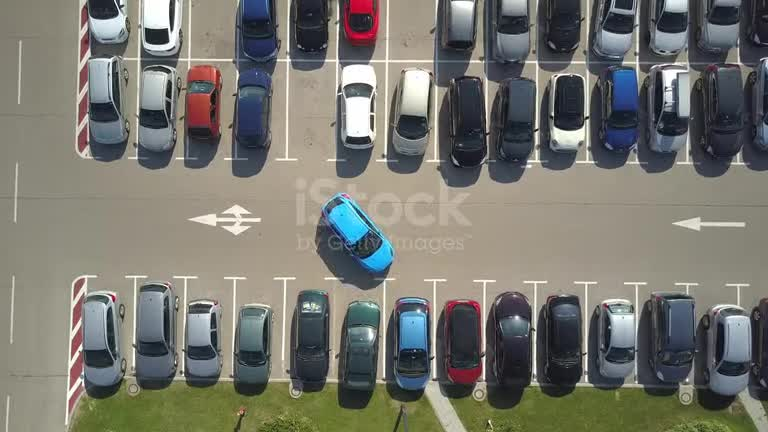car: (321, 193, 393, 273), (695, 64, 744, 157), (701, 304, 751, 395), (647, 292, 695, 382), (134, 282, 178, 380), (82, 291, 125, 386), (491, 292, 532, 386), (646, 64, 689, 152), (491, 77, 536, 160), (138, 65, 181, 151), (87, 56, 129, 143), (447, 76, 487, 167), (393, 297, 432, 390), (544, 294, 583, 385), (392, 68, 433, 154), (342, 300, 380, 390), (598, 66, 638, 151), (444, 300, 484, 384), (294, 290, 329, 382), (233, 304, 272, 384), (596, 299, 635, 378), (340, 64, 376, 148), (184, 299, 222, 377), (234, 69, 272, 147), (548, 74, 586, 151), (185, 65, 222, 139), (592, 0, 638, 59), (237, 0, 280, 61), (694, 0, 741, 52), (491, 0, 530, 62), (646, 0, 688, 55), (141, 0, 182, 55), (543, 0, 582, 51), (87, 0, 130, 43), (292, 0, 328, 51), (441, 0, 477, 51), (749, 58, 767, 150), (343, 0, 379, 45), (751, 297, 767, 387), (747, 0, 767, 45)
